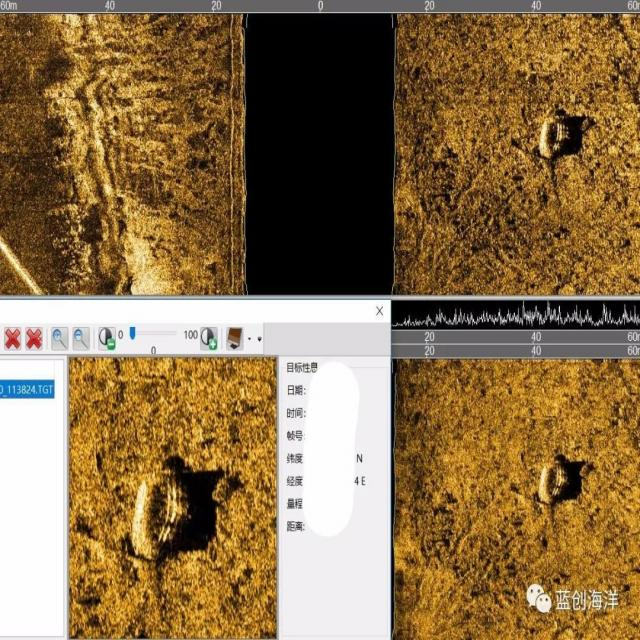ship: (125, 465, 193, 565), (530, 451, 574, 512), (532, 107, 576, 159)
